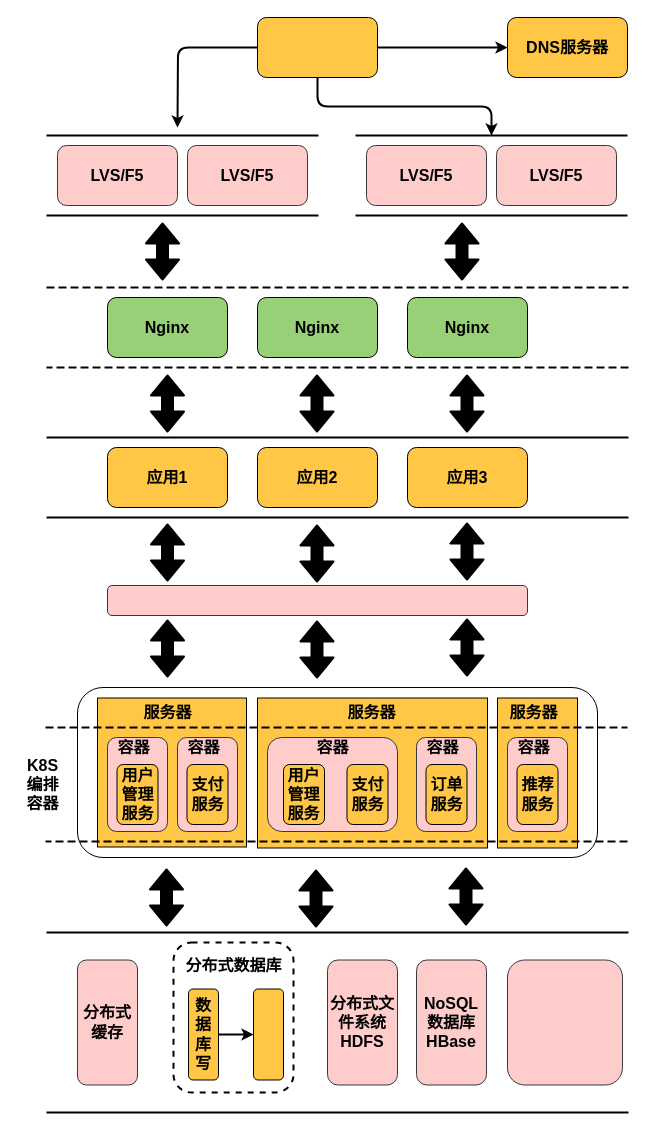
Some shapes in this 645 by 1131 pixel diagram are drawn without their labels. Each missing label, with the centre of its shape:
ESB企业服务总线: (317,600)
搜索引擎ElasticSearch: (564,1022)
数据库读: (268,1034)
浏览器: (317,47)
